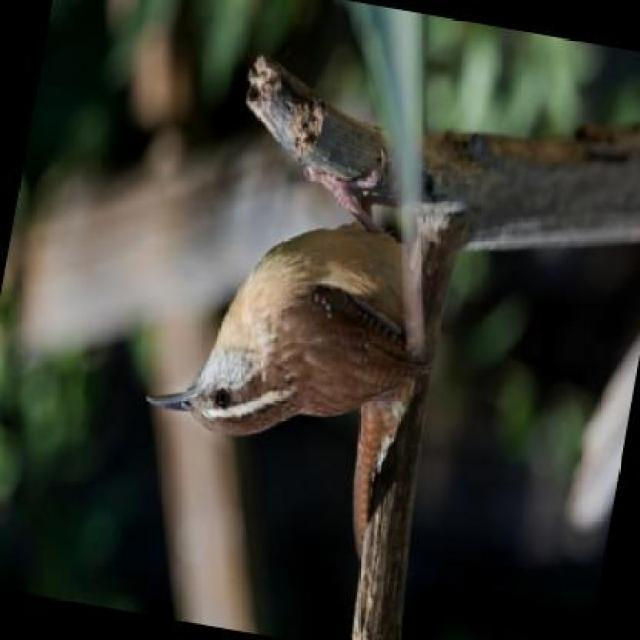Bird: (146, 170, 499, 466)
